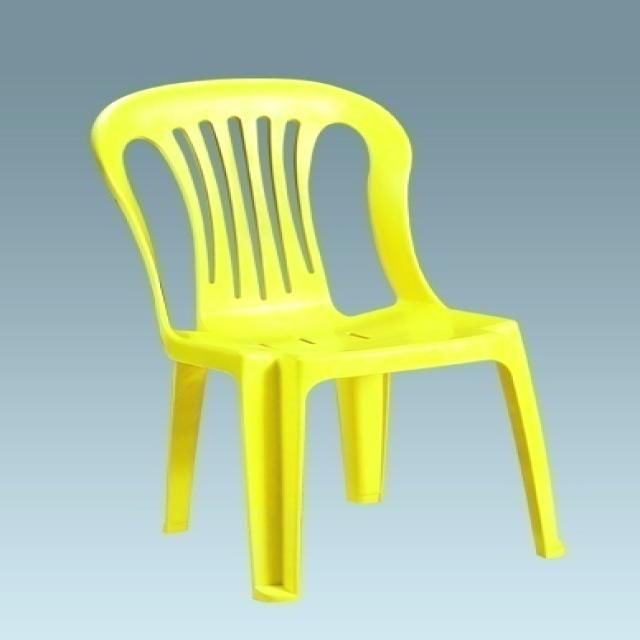Chair: (92, 75, 588, 606)
